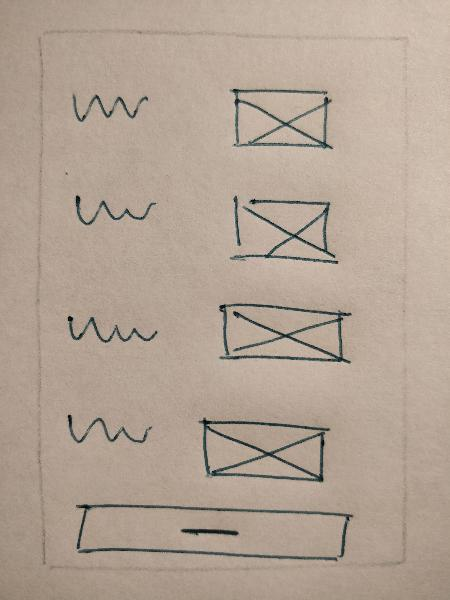button: (67, 494, 355, 572)
image: (192, 408, 339, 494), (209, 297, 356, 375), (221, 188, 343, 277), (222, 79, 342, 157)
text: (62, 404, 159, 459), (62, 185, 166, 235), (58, 308, 170, 354), (65, 84, 155, 128)
